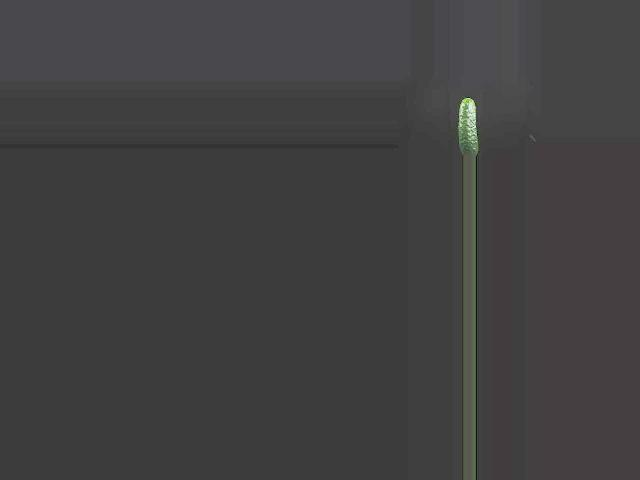cucumber: (458, 97, 479, 156)
